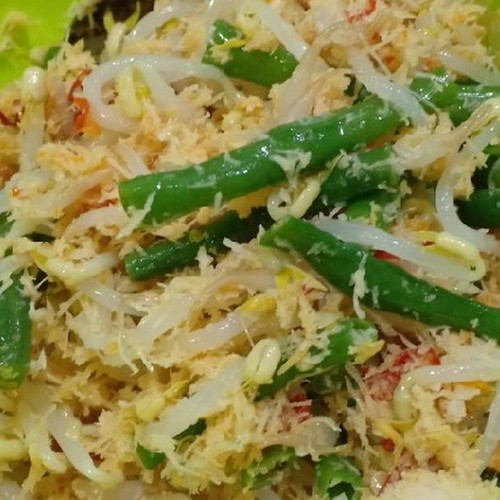jukut urap: (13, 30, 485, 455)
